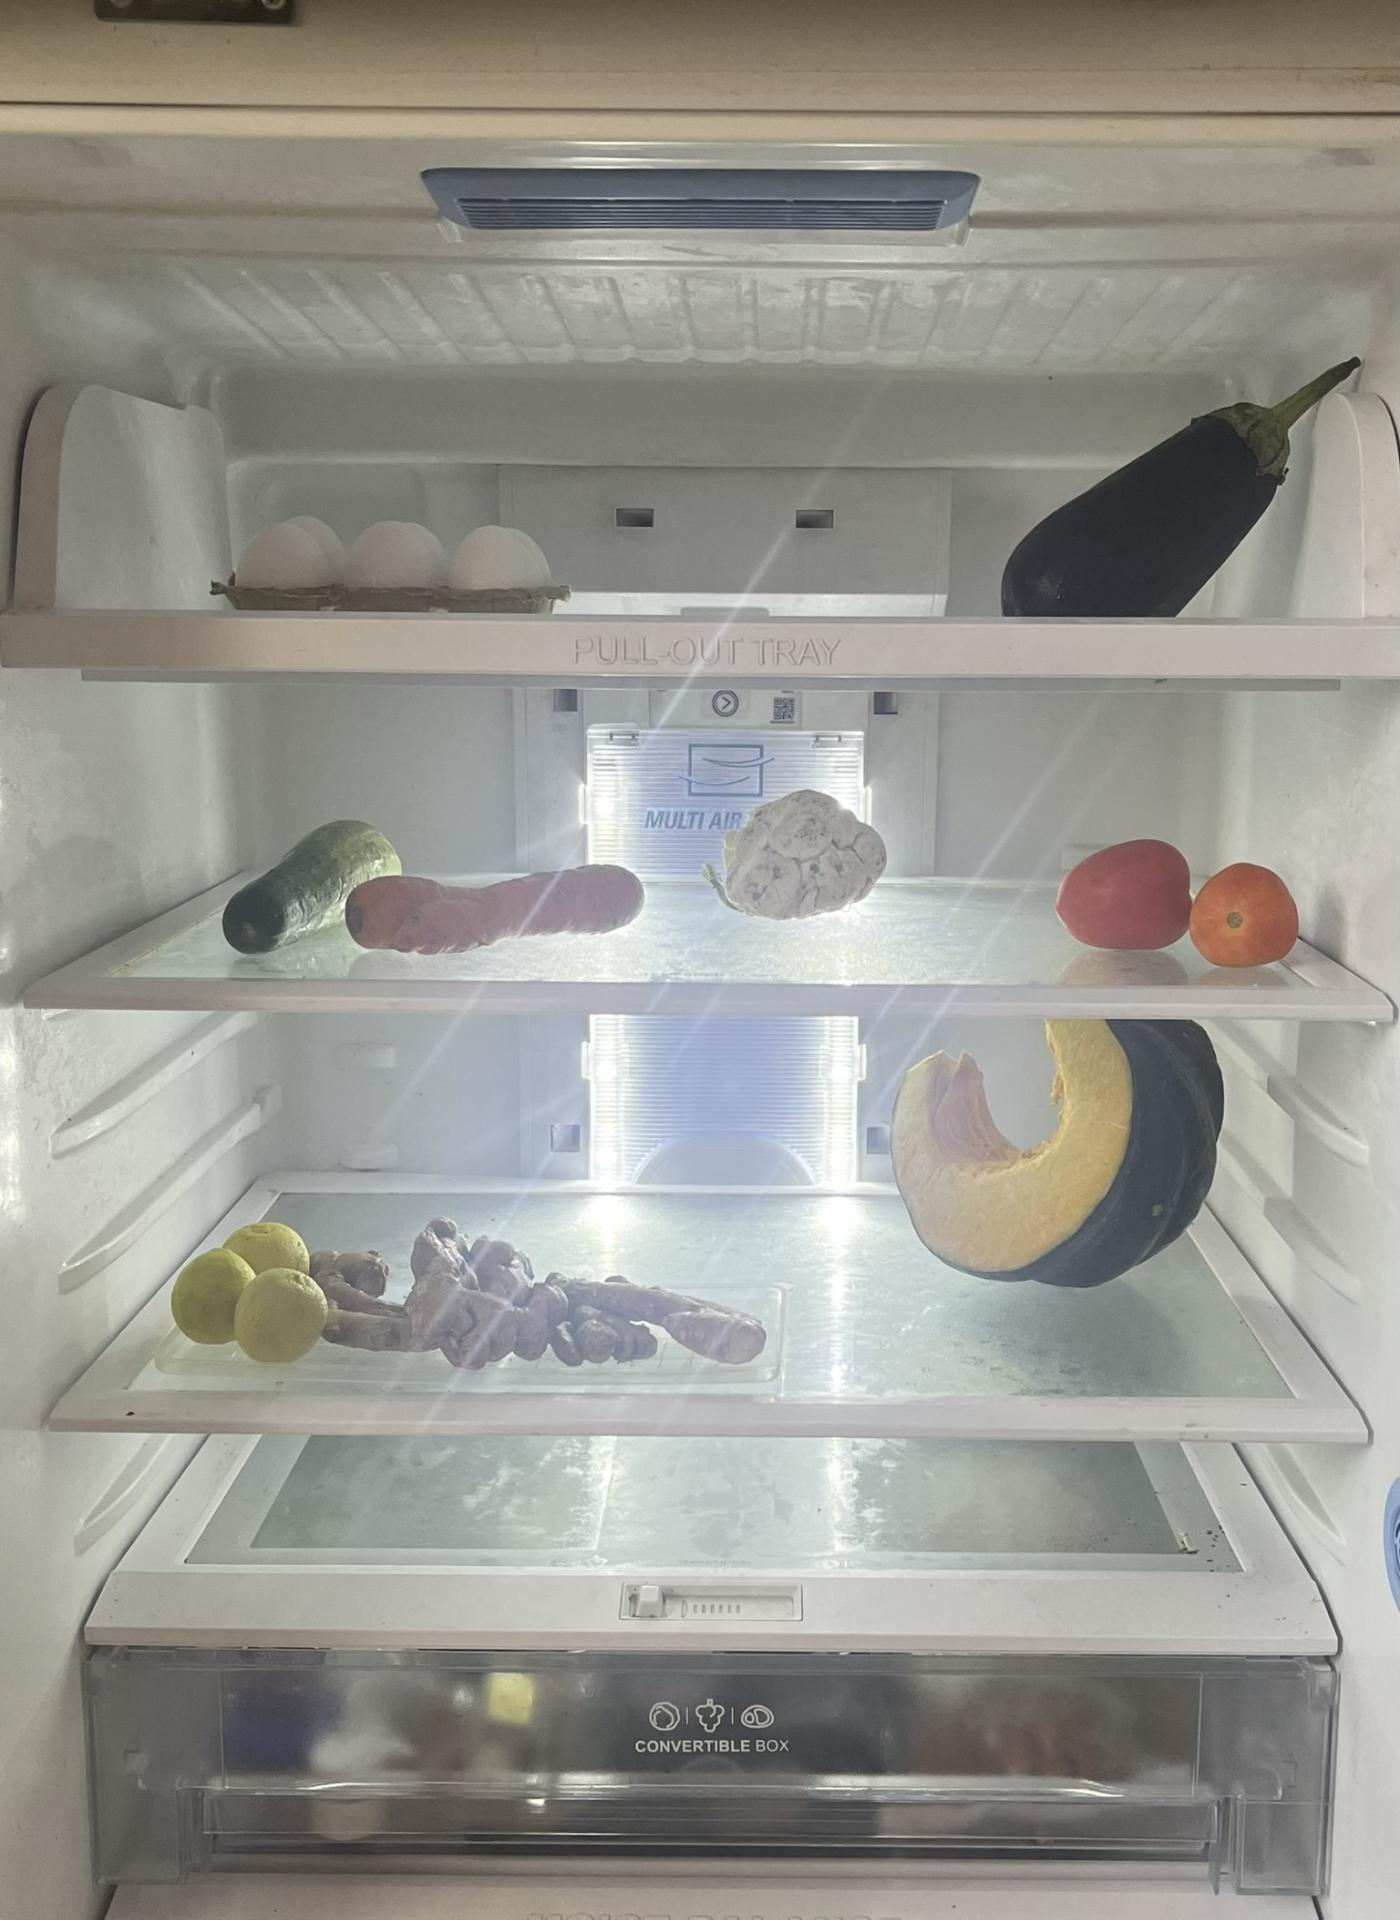brinjal: (987, 331, 1355, 619)
carrots: (297, 1207, 763, 1377), (343, 865, 643, 961)
cauliflower: (711, 790, 892, 920)
cucumber: (219, 815, 414, 956)
egg: (231, 519, 553, 578)
lemon: (161, 1216, 337, 1358)
pumpkin: (895, 1023, 1229, 1280)
tomato: (1062, 832, 1311, 961)
